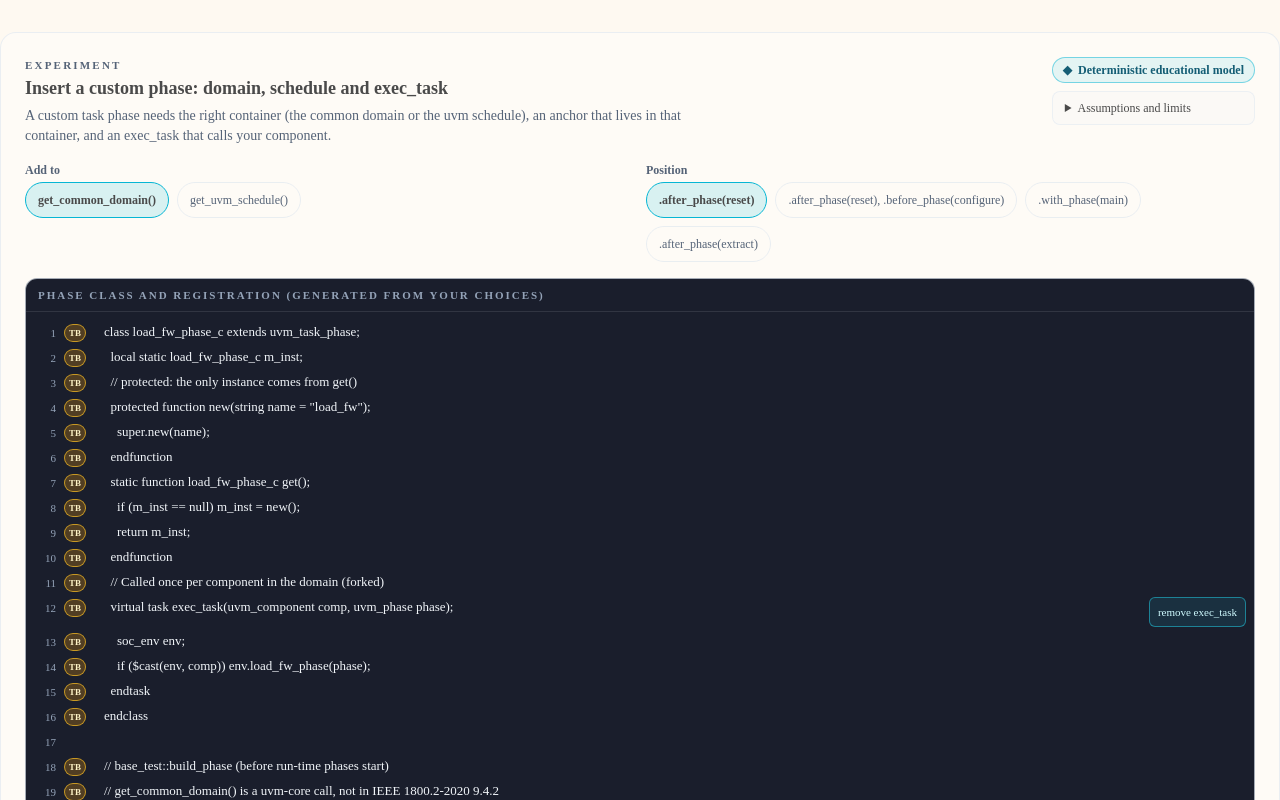
Test: MethodologyPhaseVisualizer › with_phase(main) runs the custom phase in a parallel branch (positions picked with the keyboard)
Click the radio button labelled "get_uvm_schedule()": (239, 200) [177,182,301,218]
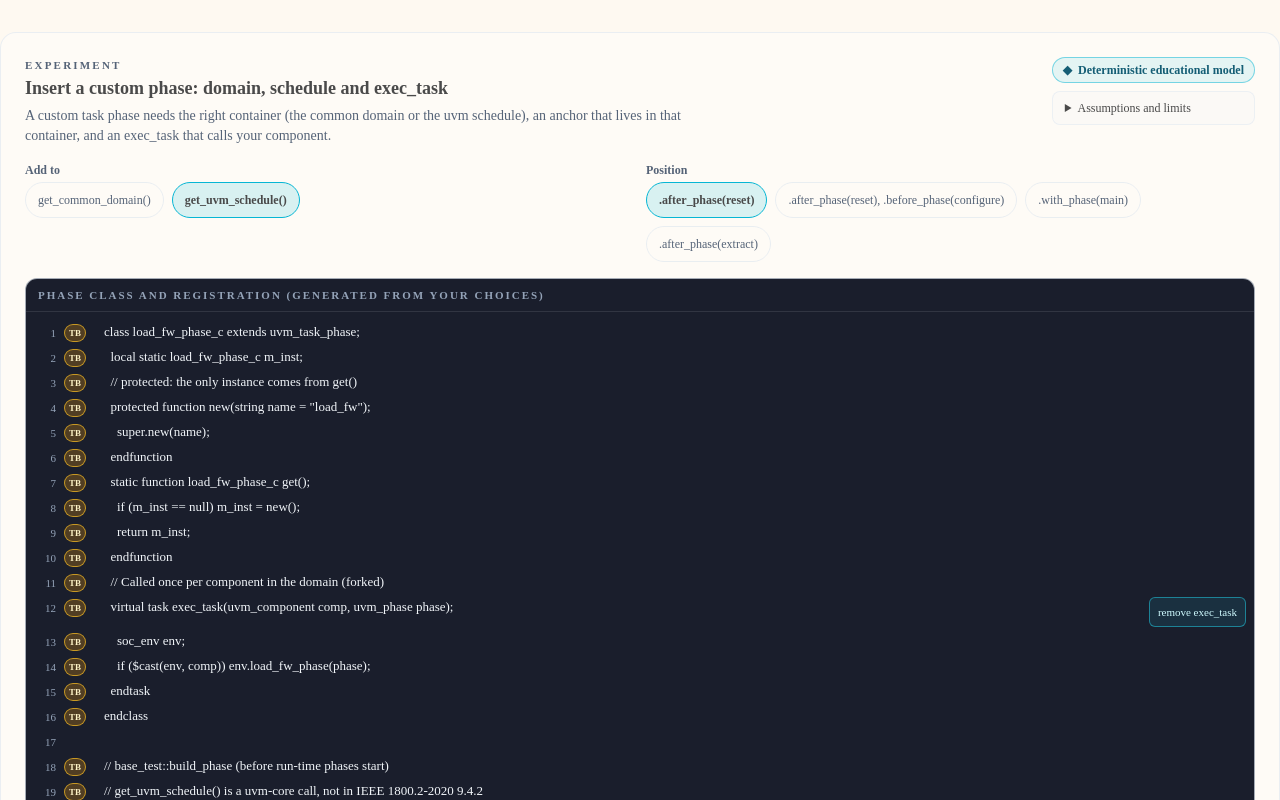
Press ArrowRight in the radio button labelled ".after_phase(reset)", box [646,182,767,218]
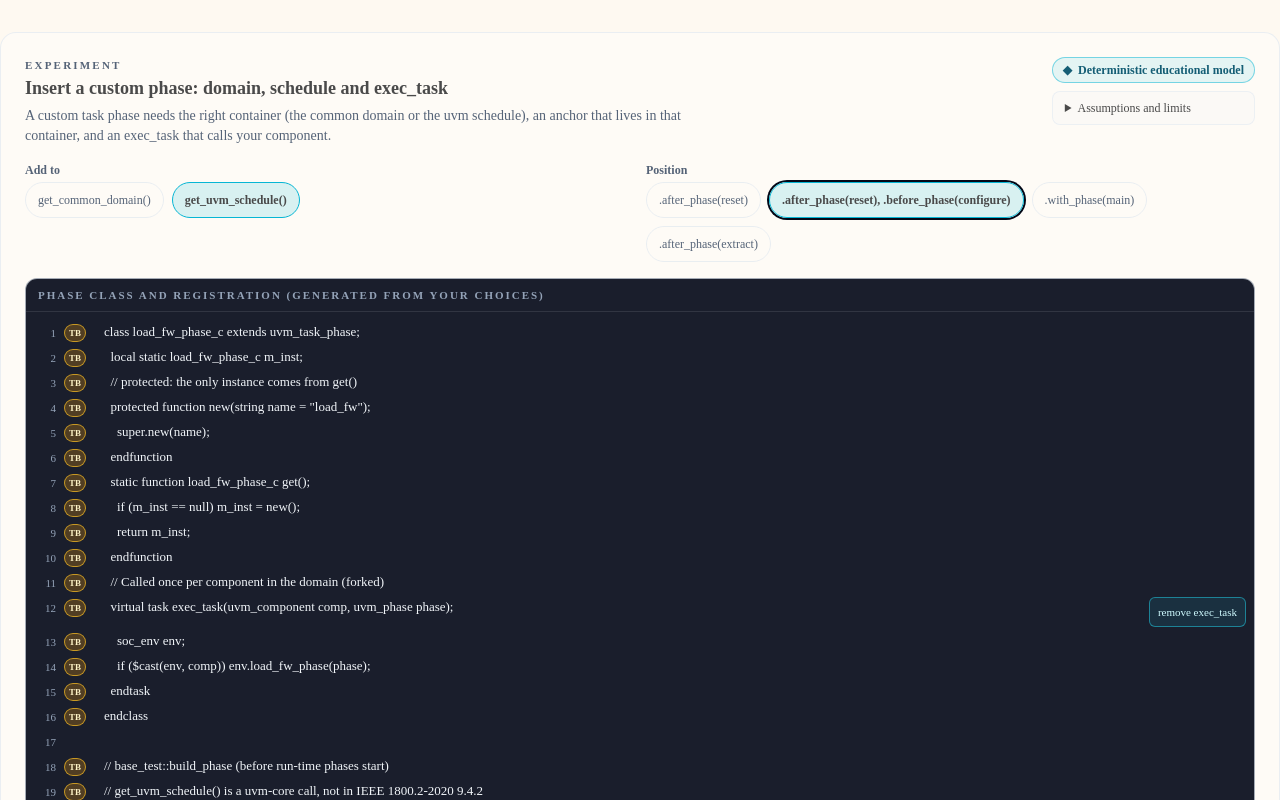
Press ArrowRight in the radio button labelled ".after_phase(reset), .before_phase(configure)", box [769,182,1024,218]
(page scrolled)
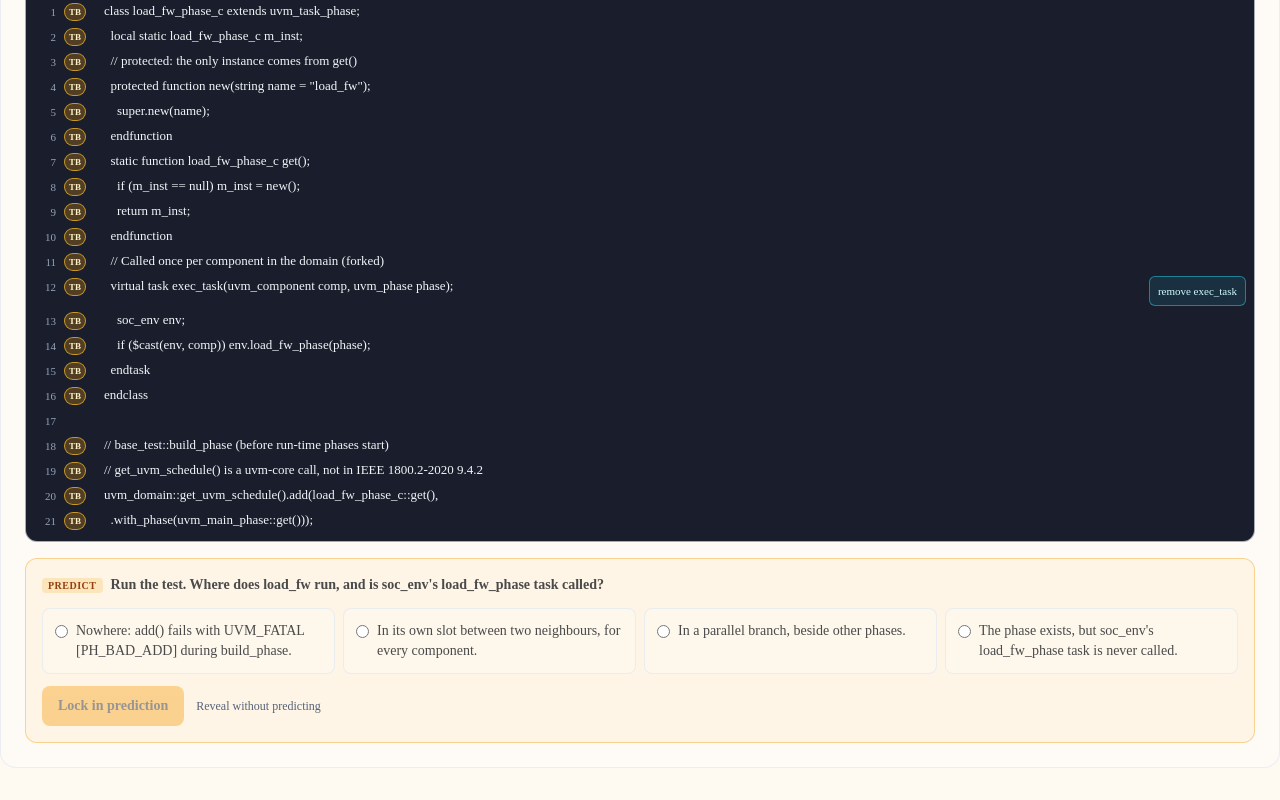
Click the radio button labelled "In a parallel branch, beside other phases.": (664, 632) [657,625,670,638]
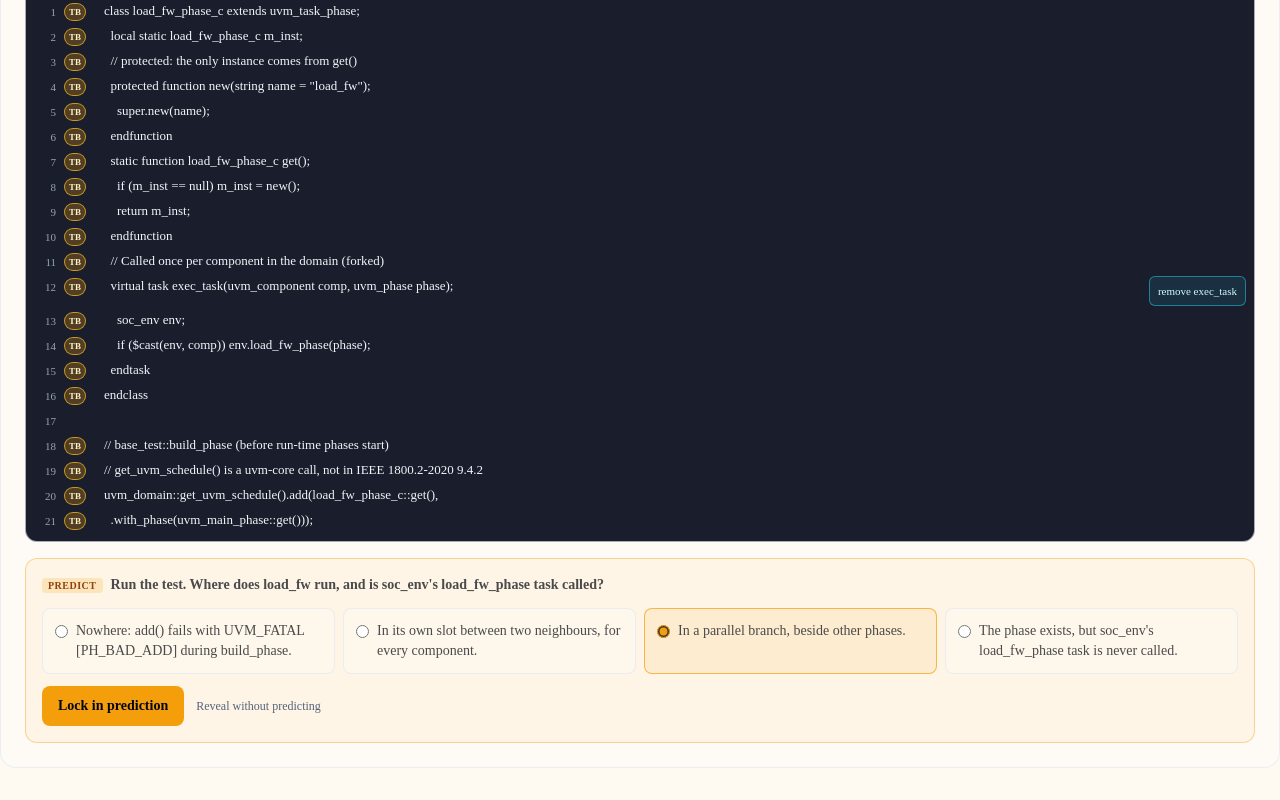
Click the button "Lock in prediction": (113, 706) [42,686,184,726]
(page scrolled)
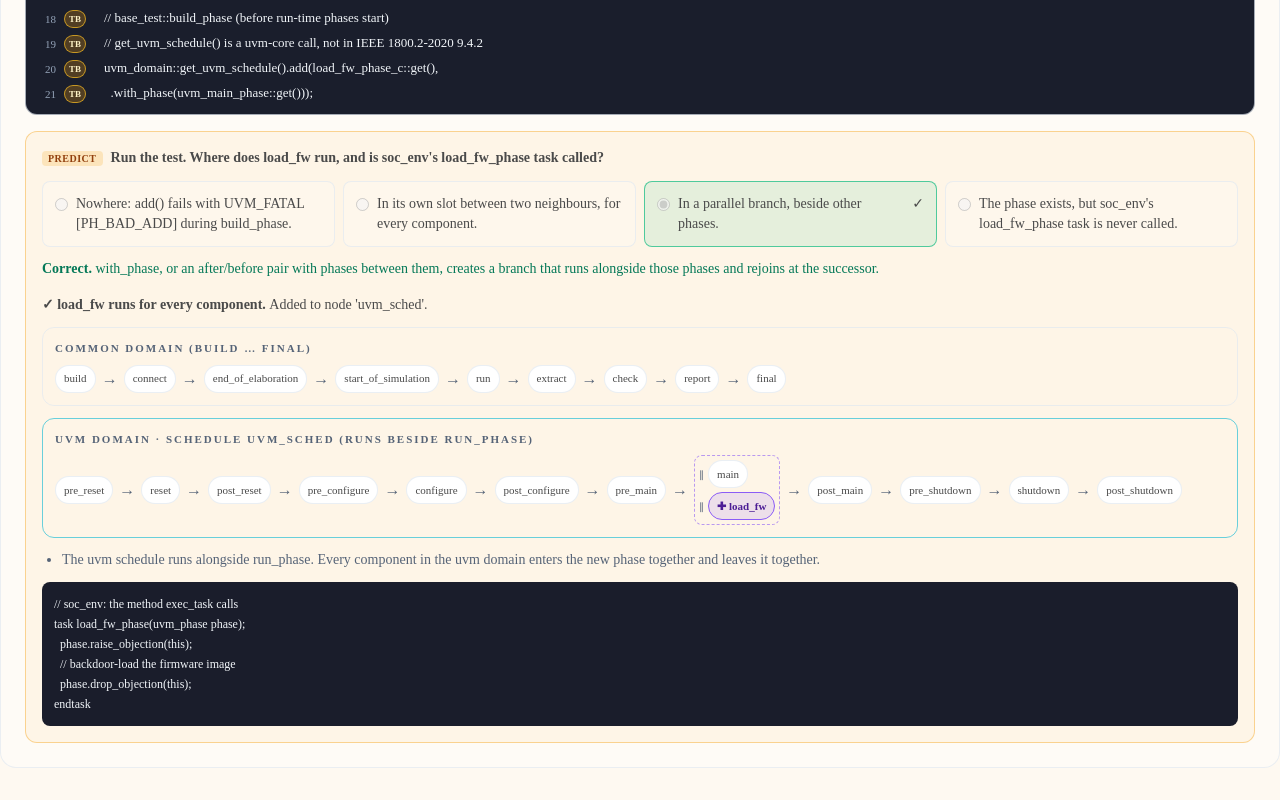
Expected: the text "Correct." is shown, [42,261,95,276]
Expected: the element named "parallel branch" reads "∥ main ∥ ✚ load_fw", [694,455,780,525]
